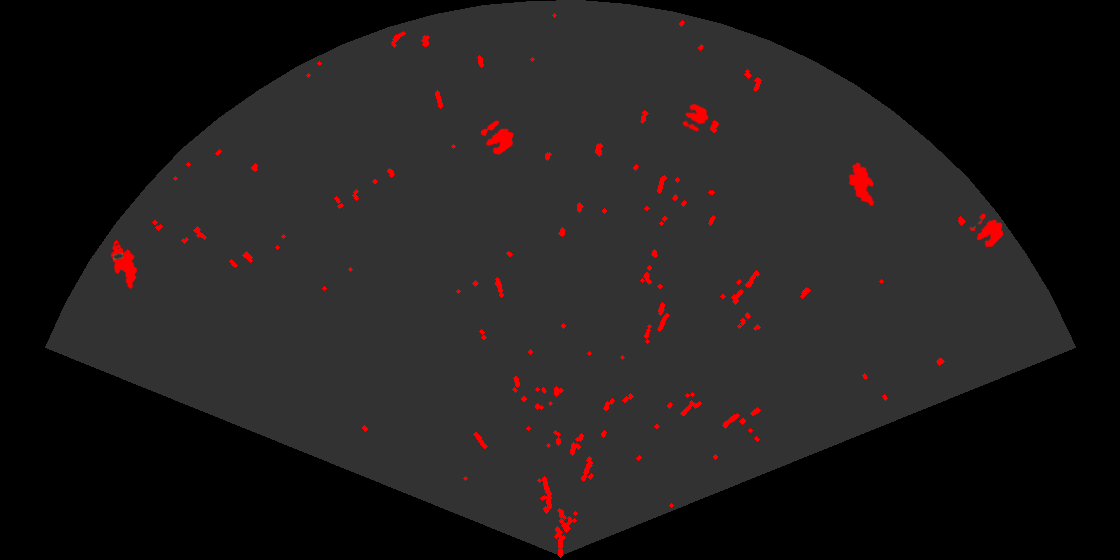AUV: (109, 242, 139, 291), (847, 161, 876, 208)
ball: (968, 212, 1005, 249), (479, 119, 515, 156), (681, 102, 710, 133)
